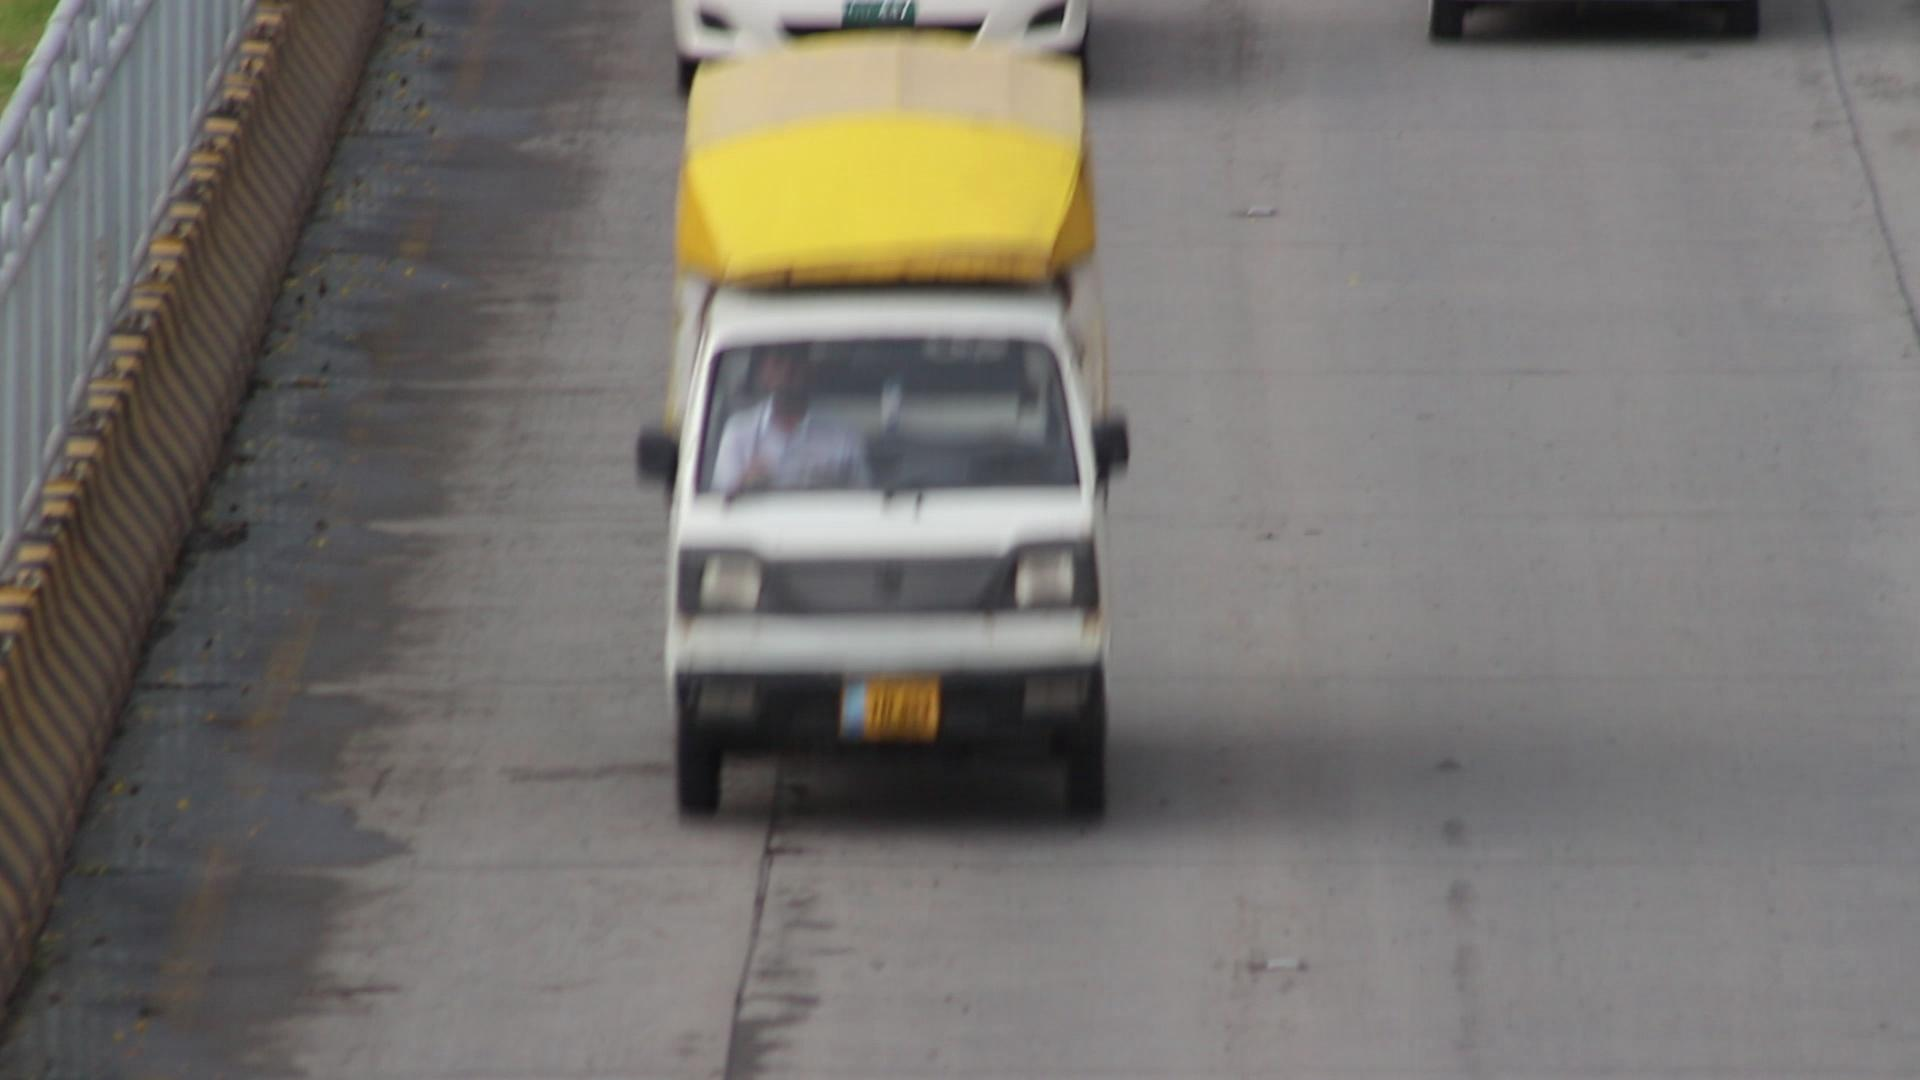windshield: (691, 316, 1101, 530)
